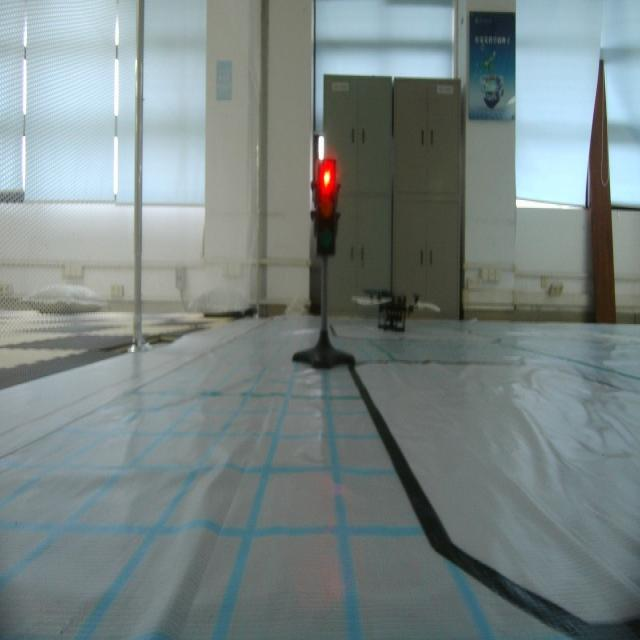red: (311, 154, 341, 262)
